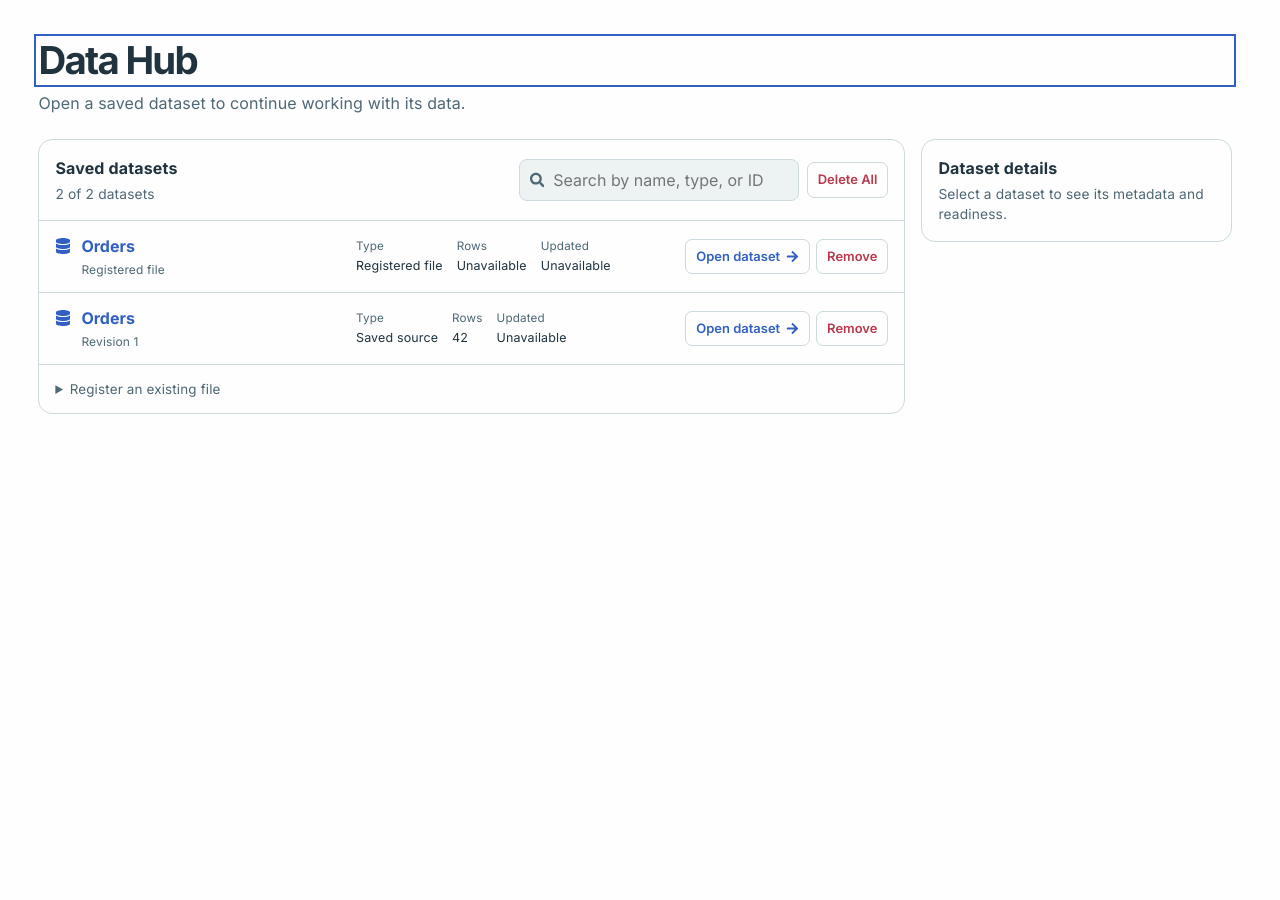
successful removal retains other records with the same name
Click the 1st button "Remove" at (852,257), box [816,239,888,274]
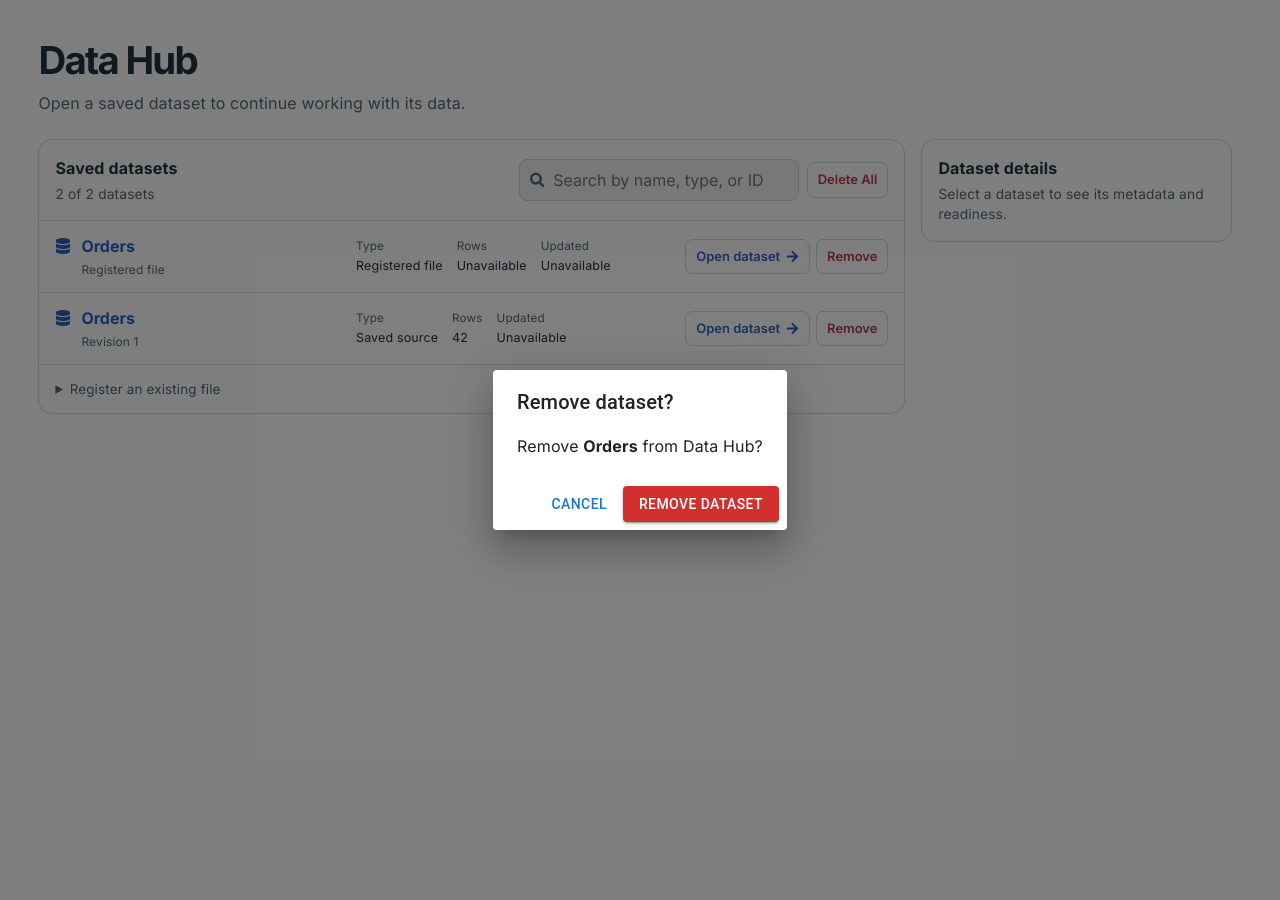
Click the button "Remove dataset" at (701,504), box [623,486,779,522]
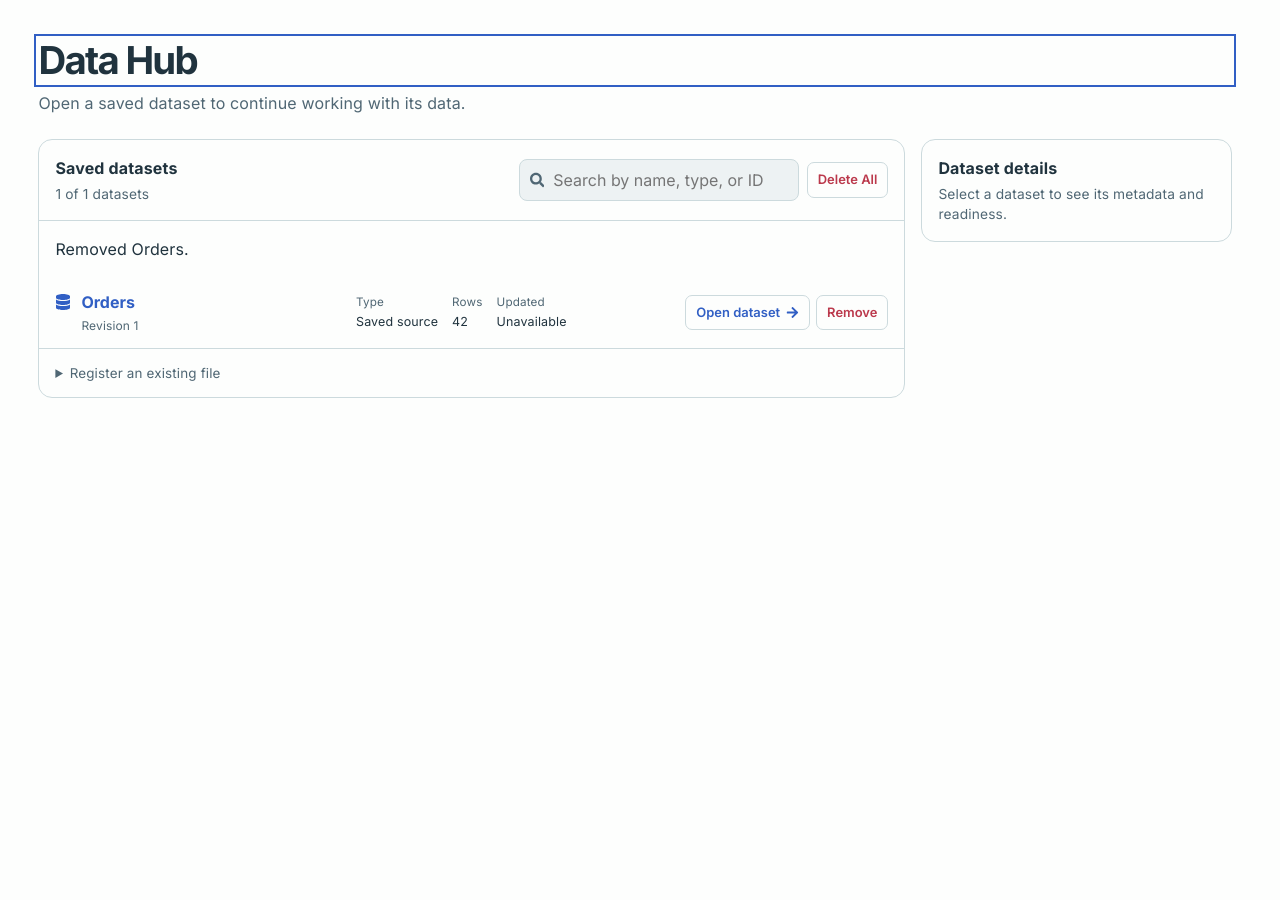
Check: the button with aria-label "View details for Orders (orders-2)" is shown, box [81,290,135,314]
Check: the text "Removed Orders." is shown, box [55,239,189,259]
